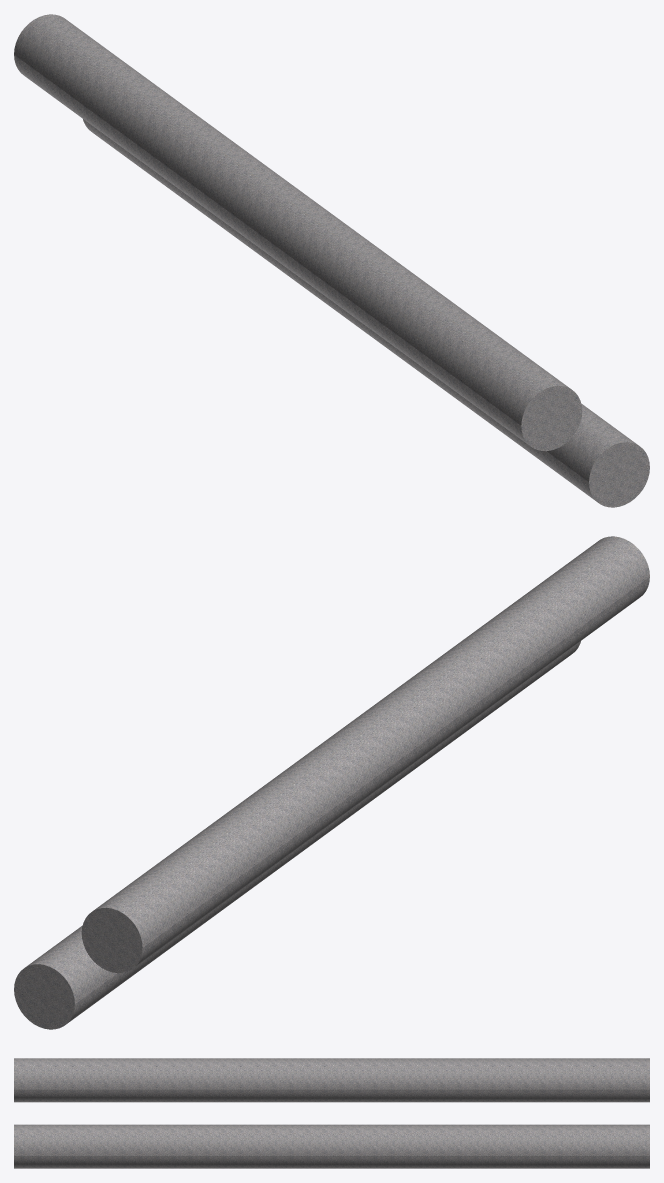
3 renders of one model, top to bottom at view 1: azimuth 30°, elevation 25°; view 2: azimuth 150°, elevation 25°; view 3: azimuth 270°, elevation 25°, orthographic. The views are drawn at different scales.
Parts seen in each view (by area): view 1: 0_2_0_0_3_3_1_0_0; view 2: 0_2_0_0_3_3_1_0_0; view 3: 0_2_0_0_3_3_1_0_0.
Part boxes in pixels (x1,y1,x2,y2): 0_2_0_0_3_3_1_0_0: (14, 14, 649, 507); 0_2_0_0_3_3_1_0_0: (14, 536, 649, 1029); 0_2_0_0_3_3_1_0_0: (14, 1058, 649, 1168).
Size of the model in its own units: 1.69 by 1.71 by 11.53.
2 materials, 2 textured.
